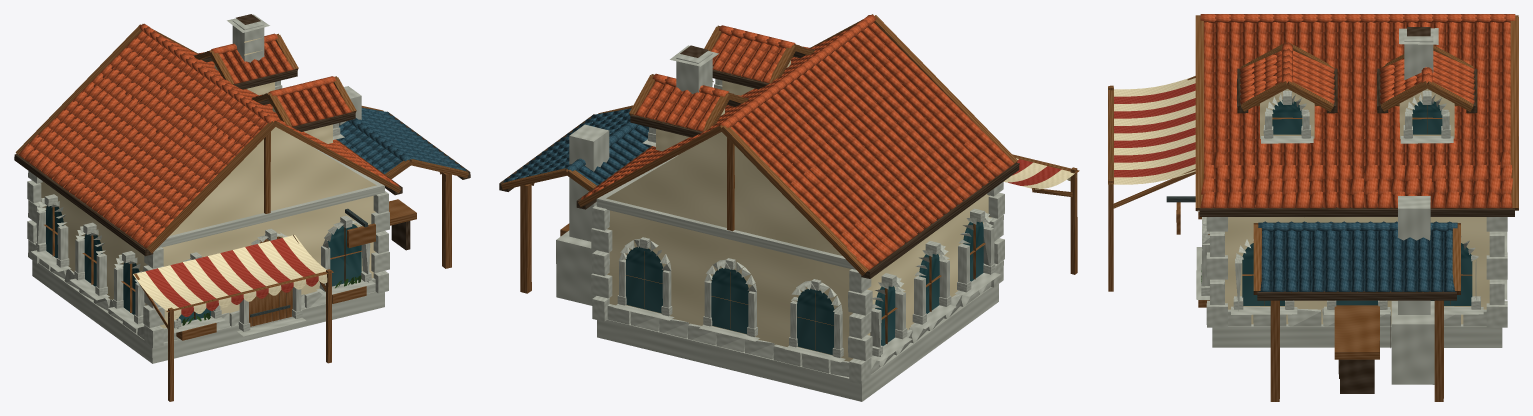
Rendered from smith_workshop.glb.
3 views of the same model, side by side, from view 1: azimuth 30°, elevation 25°; view 2: azimuth 150°, elevation 25°; view 3: azimuth 270°, elevation 25° (orthographic). The views are drawn at different scales.
Parts seen in each view (by area): view 1: smith_workshop_Roof.001, smith_workshop_Structure.001, smith_workshop_Joinery.001, smith_workshop_Cloth.001, smith_workshop_Detail.001, smith_workshop_Glazing.001; view 2: smith_workshop_Structure.001, smith_workshop_Roof.001, smith_workshop_Joinery.001, smith_workshop_Detail.001, smith_workshop_Glazing.001, smith_workshop_Cloth.001; view 3: smith_workshop_Roof.001, smith_workshop_Structure.001, smith_workshop_Joinery.001, smith_workshop_Cloth.001, smith_workshop_Detail.001, smith_workshop_Glazing.001.
Part boxes in pixels (x1,y1,x2,y2): smith_workshop_Roof.001: (18,23,466,248); smith_workshop_Structure.001: (27,14,389,363); smith_workshop_Joinery.001: (14,24,470,401); smith_workshop_Cloth.001: (133,235,327,319); smith_workshop_Detail.001: (31,80,375,336); smith_workshop_Glazing.001: (46,206,361,323); smith_workshop_Structure.001: (556,45,1004,401); smith_workshop_Roof.001: (503,15,1014,270); smith_workshop_Joinery.001: (499,14,1079,349); smith_workshop_Detail.001: (613,79,1000,362); smith_workshop_Glazing.001: (626,221,983,354); smith_workshop_Cloth.001: (1003,158,1076,189); smith_workshop_Roof.001: (1200,14,1515,291); smith_workshop_Structure.001: (1206,27,1507,384); smith_workshop_Joinery.001: (1108,15,1518,401); smith_workshop_Cloth.001: (1113,77,1195,184); smith_workshop_Detail.001: (1196,90,1507,314); smith_workshop_Glazing.001: (1242,100,1472,305).
Size of the model in its own units: 10.51 by 6.56 by 8.52.
4 materials, 4 textured.
